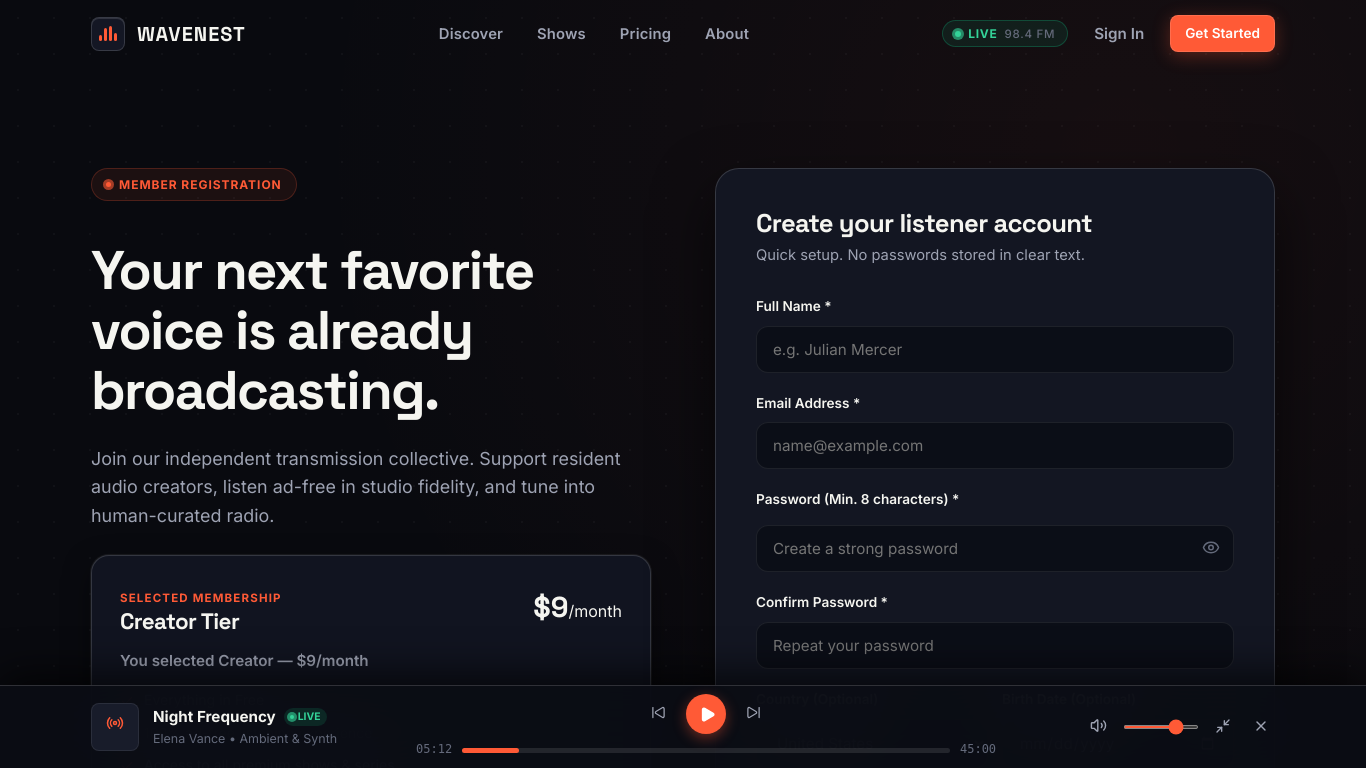
Test: Wavenest Radio Application Test Suite › completes valid signup and transitions to onboarding flow
Step 1. Type "Julian Mercer" into the field labelled "Full Name *" → (995, 349), box [756,326,1234,373]
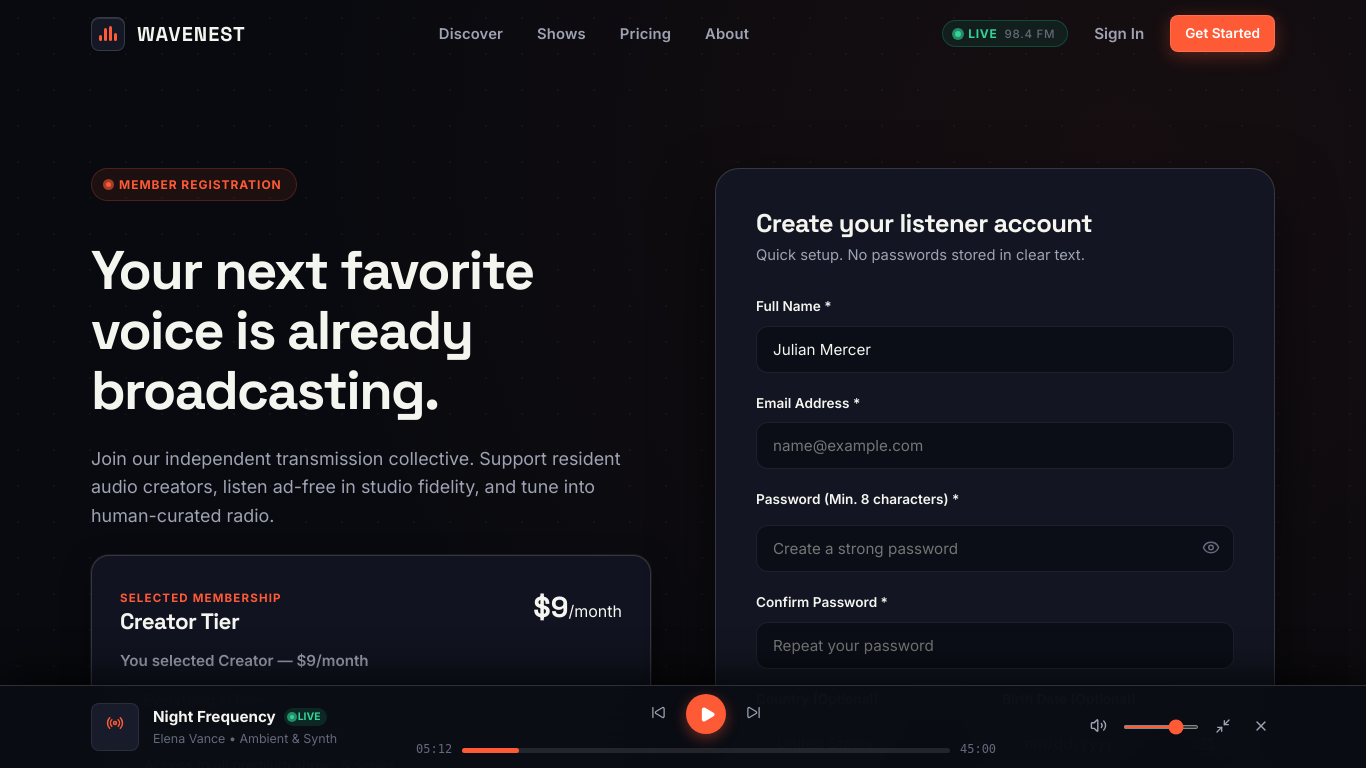
Step 2. Type "julian@wavenest.fm" into the field labelled "Email Address *" → (995, 446), box [756,422,1234,470]
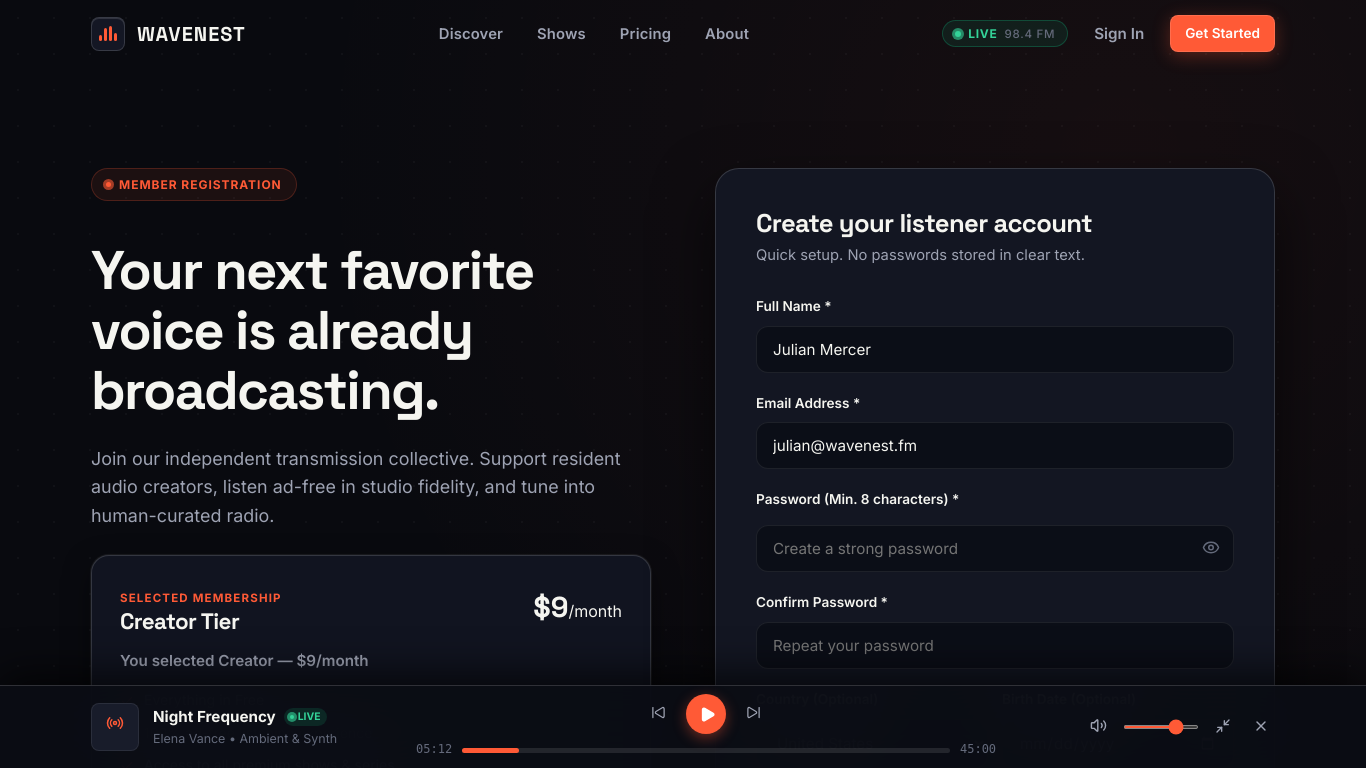
Step 3. Type "MasterKey2026!" into the password field labelled "Password (Min. 8 characters) *" → (995, 549), box [756,525,1234,572]
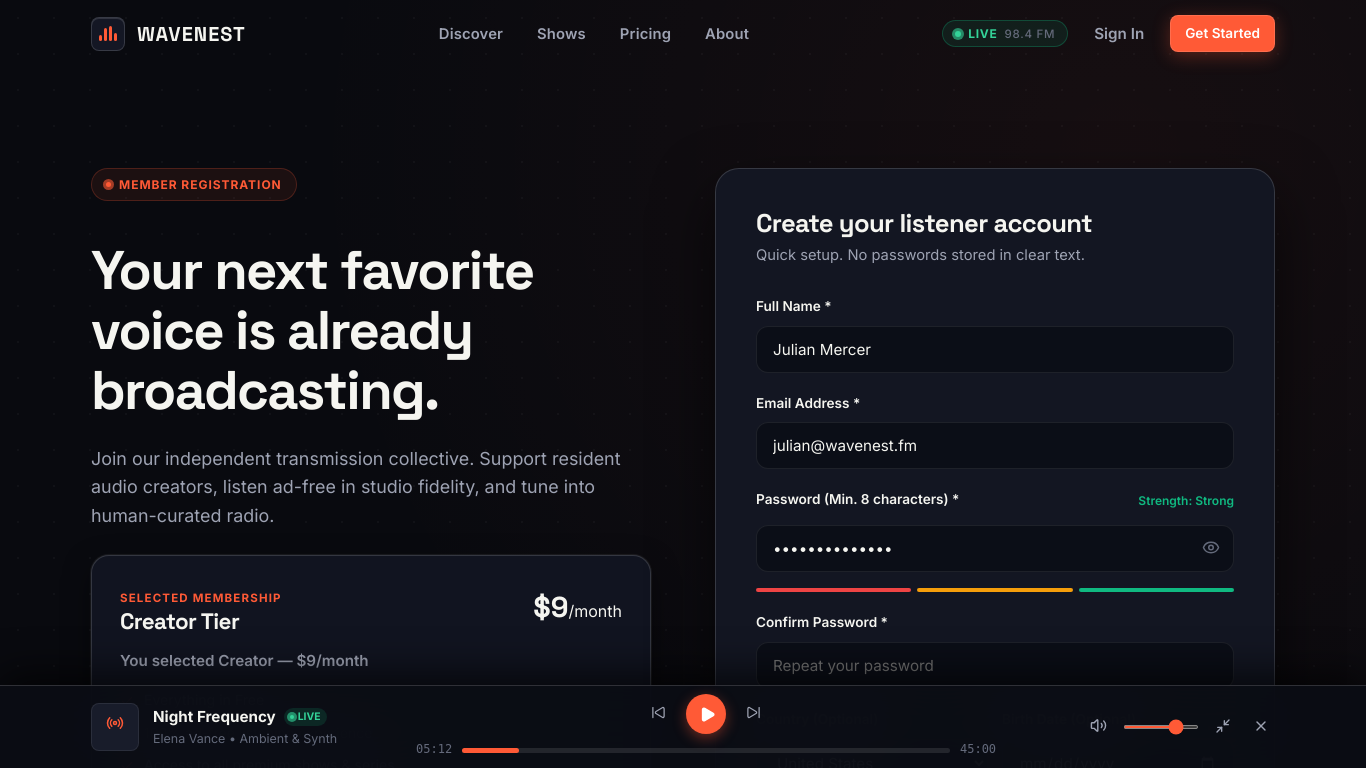
Step 4. Type "MasterKey2026!" into the password field labelled "Confirm Password *" → (995, 666), box [756,642,1234,689]
(page scrolled)
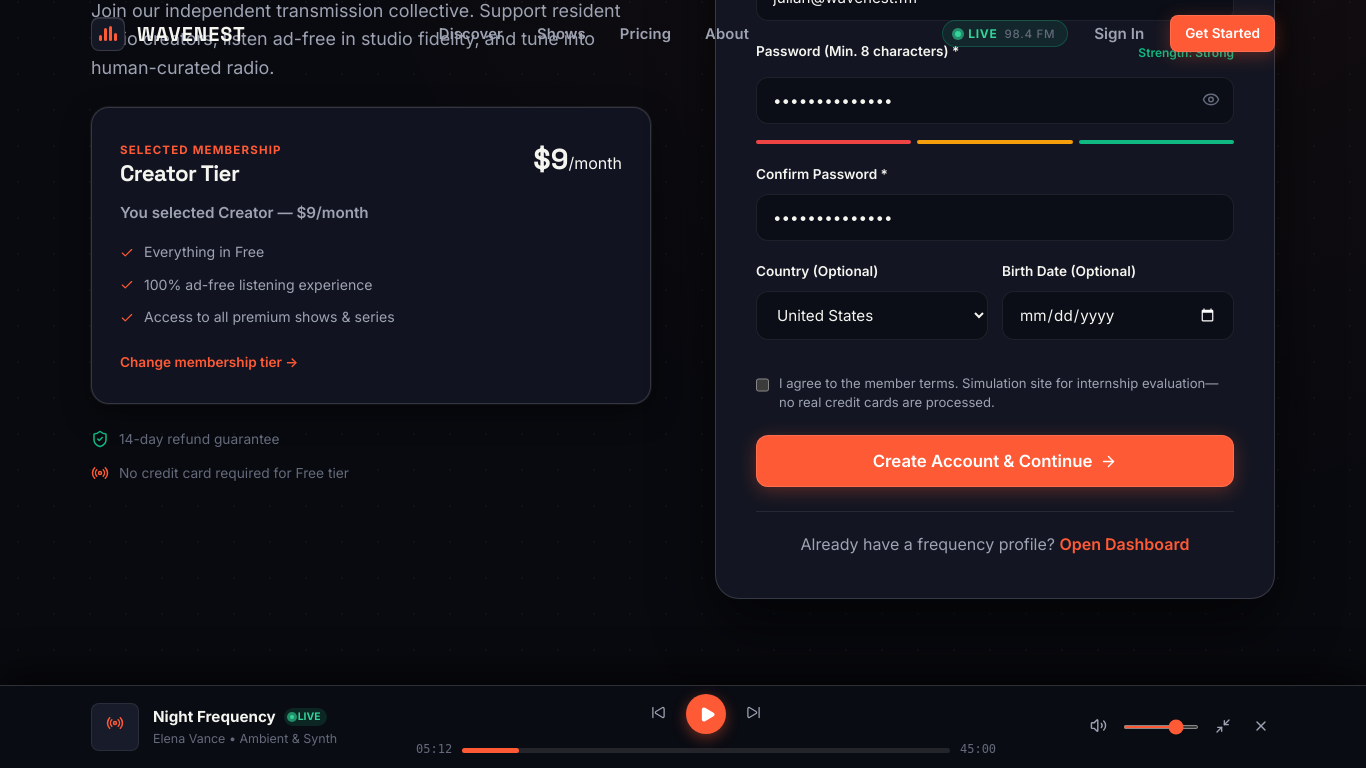
Step 5. Click the checkbox labelled "I agree to the member terms" → (762, 385), box [756,377,769,393]
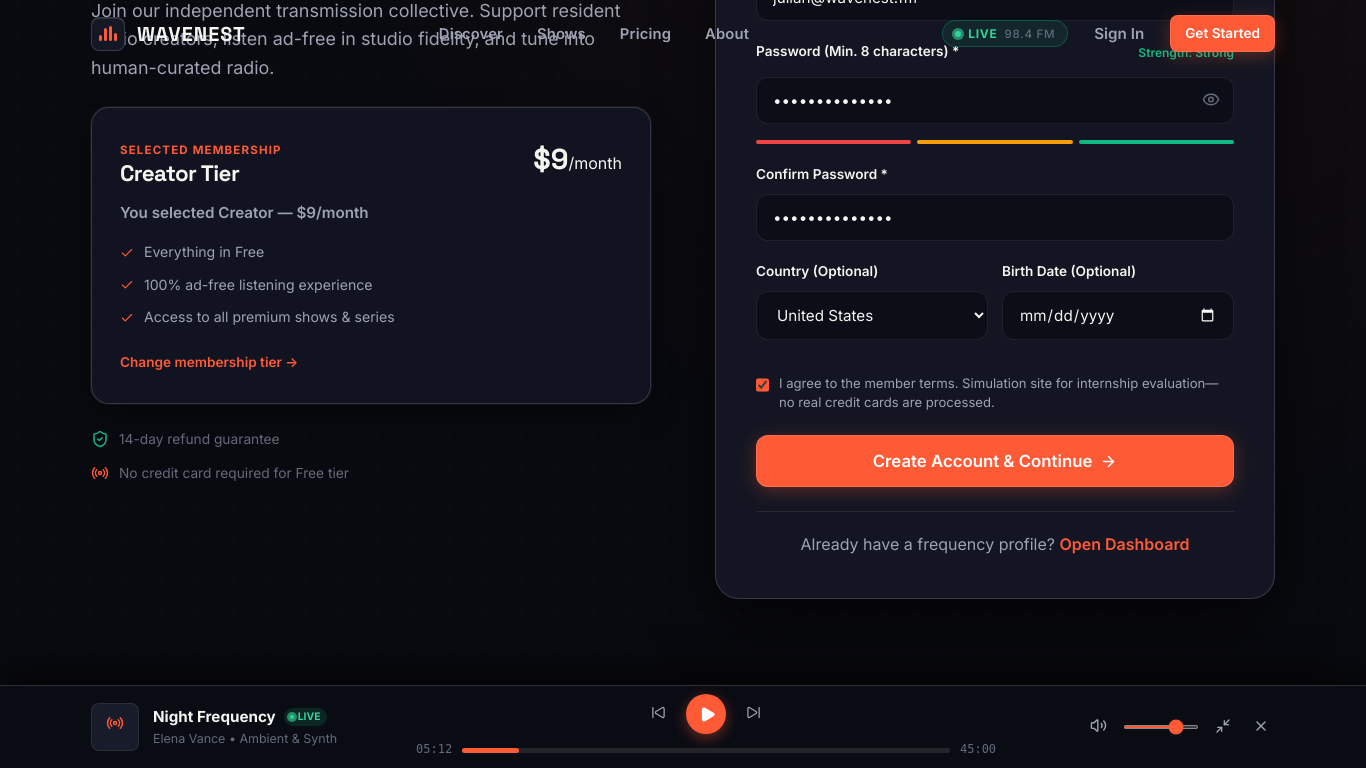
Step 6. Click the button "Create Account & Continue" → (995, 461), box [756,435,1234,487]
(page scrolled)
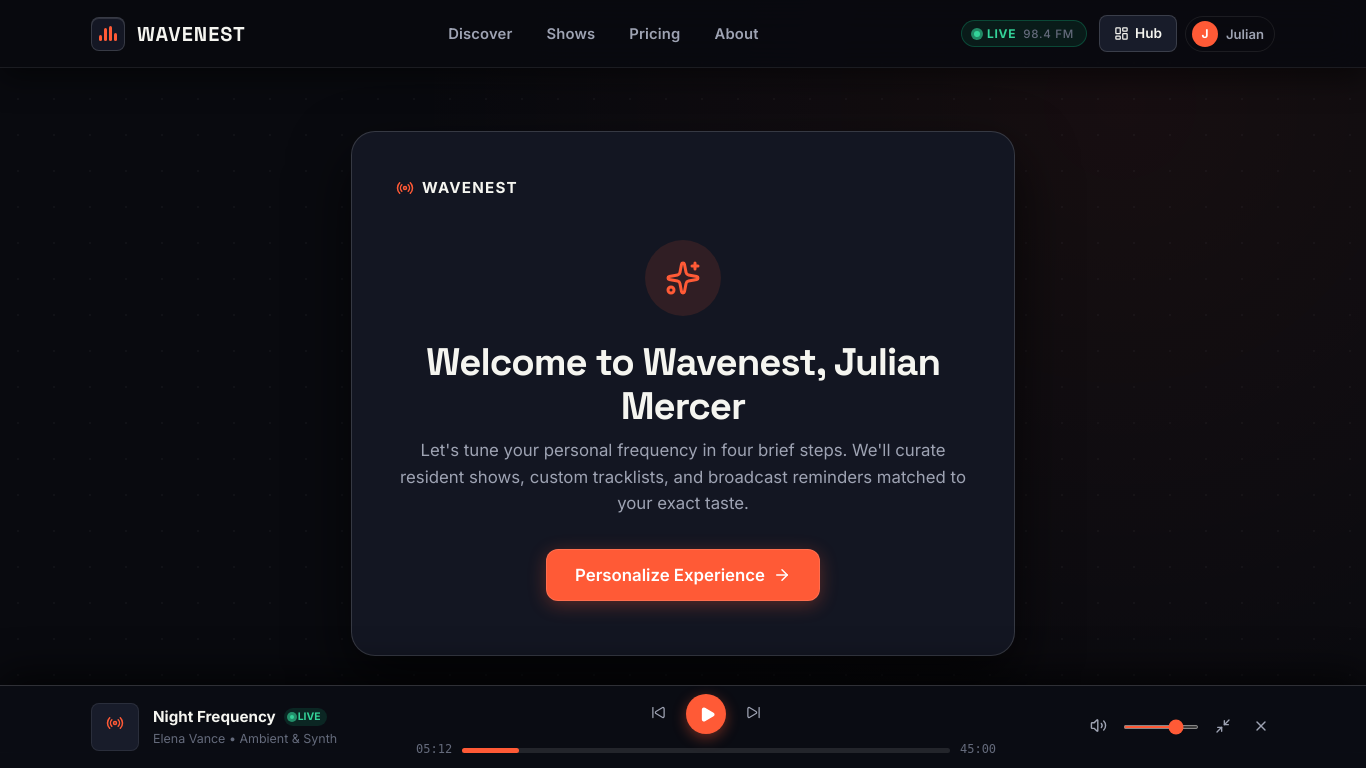
Check: the heading "Welcome to Wavenest, Julian Mercer" is shown, box [396,340,970,429]
